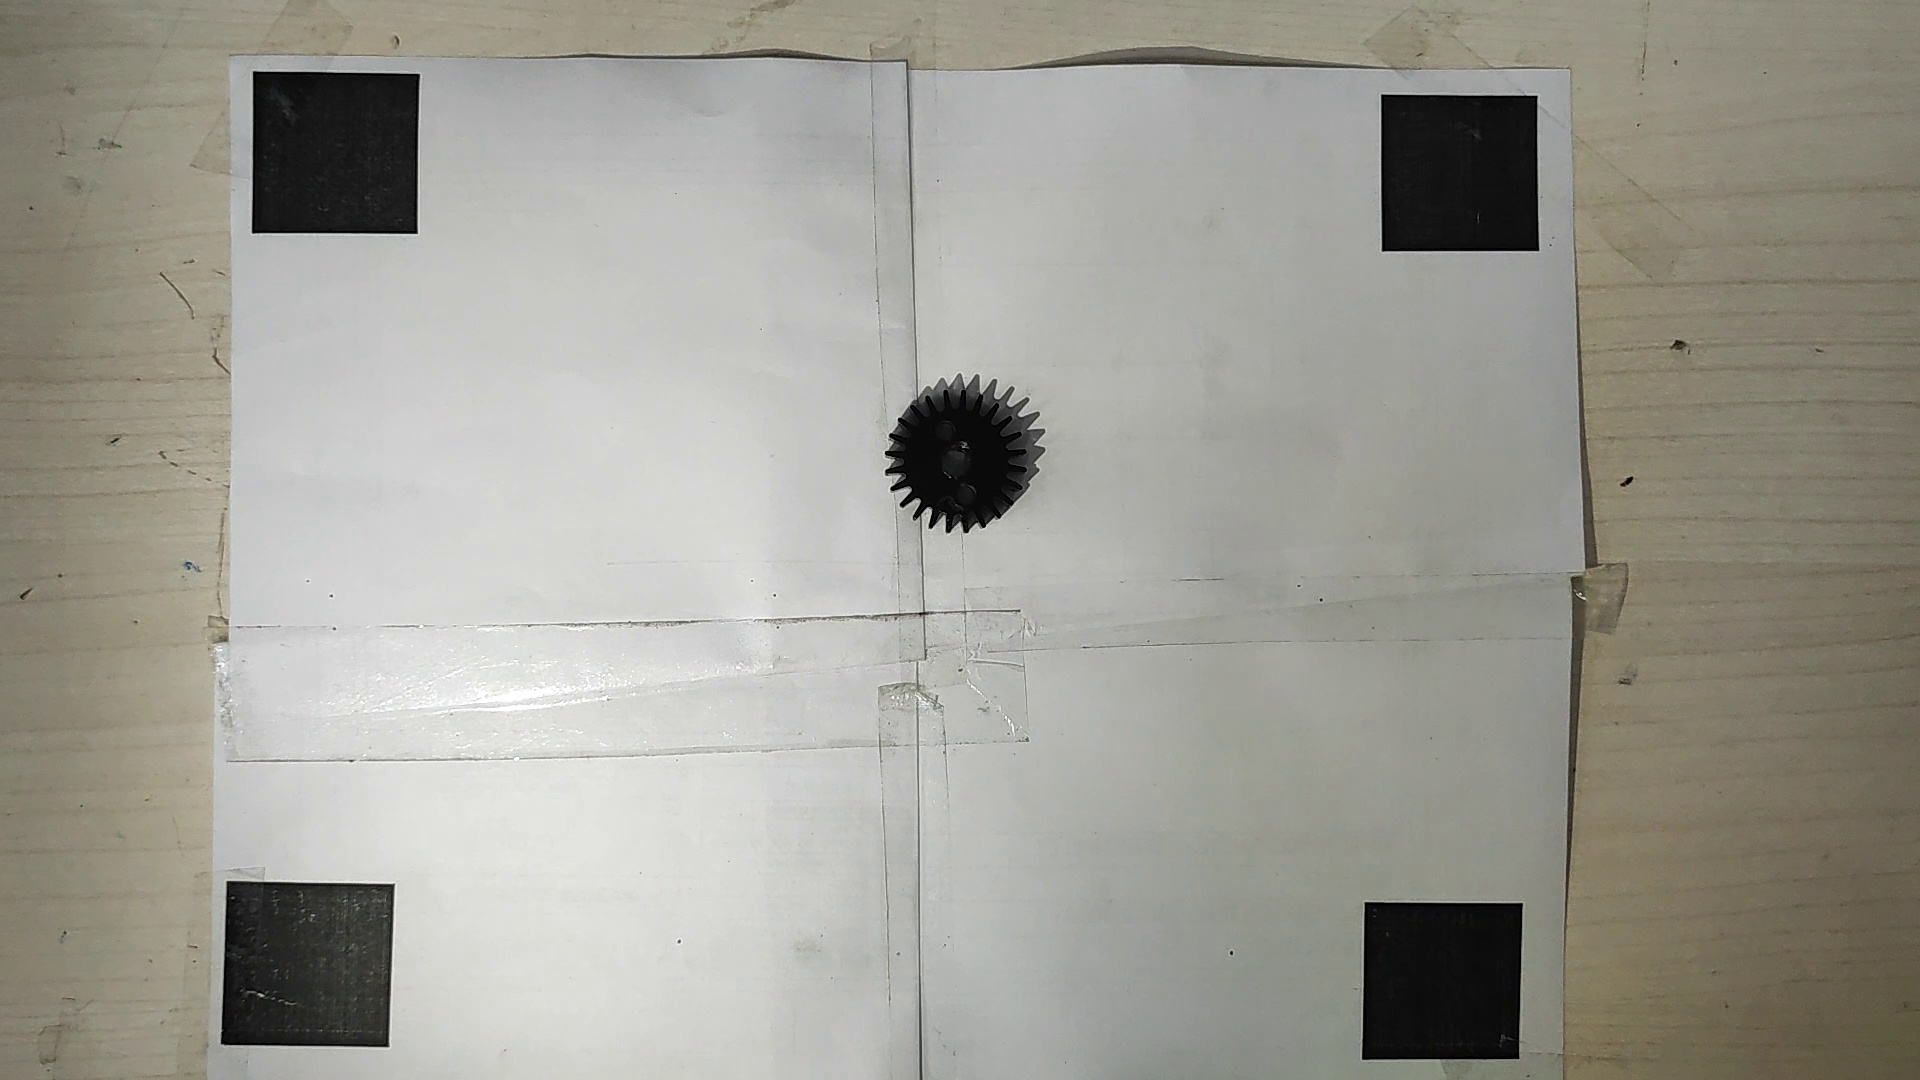Gear: (882, 382, 1034, 535)
